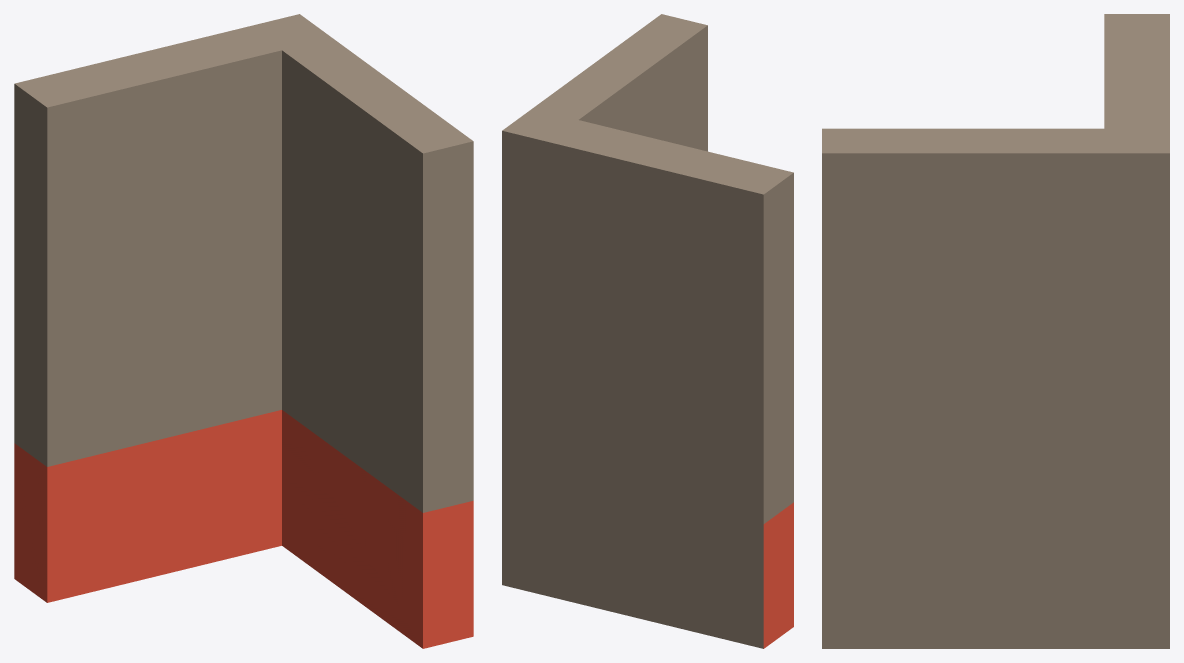
Rendered from WallCorner.fbx.
3 views of the same model, side by side, from view 1: azimuth 30°, elevation 25°; view 2: azimuth 150°, elevation 25°; view 3: azimuth 270°, elevation 25° (orthographic). The views are drawn at different scales.
Parts seen in each view (by area): view 1: Cube; view 2: Cube; view 3: Cube.
Boxes of the visible parts, <box> form: Cube: <box>14,14,473,648</box>; Cube: <box>502,14,793,648</box>; Cube: <box>822,14,1169,648</box>.
Size of the model in its own units: 121 by 200 by 127.
